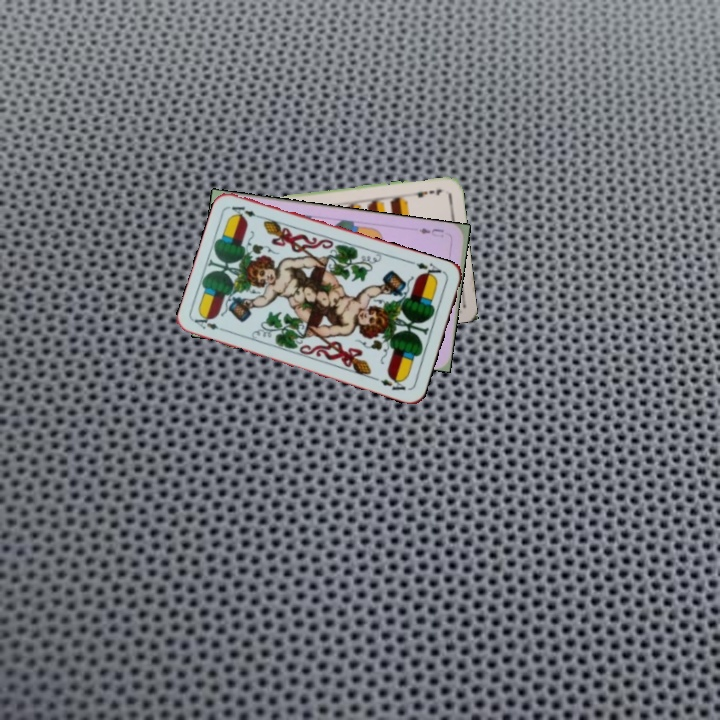E7: (407, 185, 445, 200)
EA: (407, 257, 447, 282), (190, 311, 230, 334)
EU: (415, 224, 446, 240)
